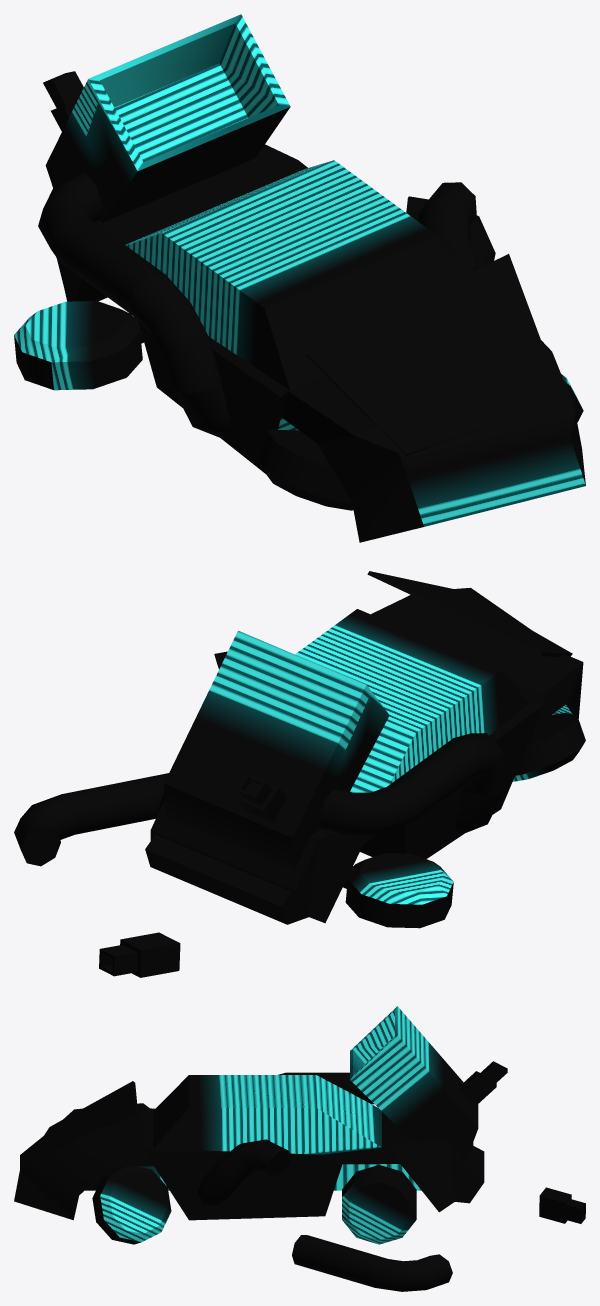
Rendered from Prop_MESH_Wreck2_Unwrapped.fbx.
3 views of the same model, one above another, from view 1: azimuth 30°, elevation 25°; view 2: azimuth 150°, elevation 25°; view 3: azimuth 270°, elevation 25° (orthographic). The views are drawn at different scales.
Parts seen in each view (by area): view 1: Wreck2; view 2: Wreck2; view 3: Wreck2.
Part boxes in pixels (x1,y1,x2,y2): Wreck2: [14, 14, 585, 542]; Wreck2: [14, 571, 585, 977]; Wreck2: [14, 1006, 585, 1291].
Size of the model in its own units: 420 by 254 by 700.
